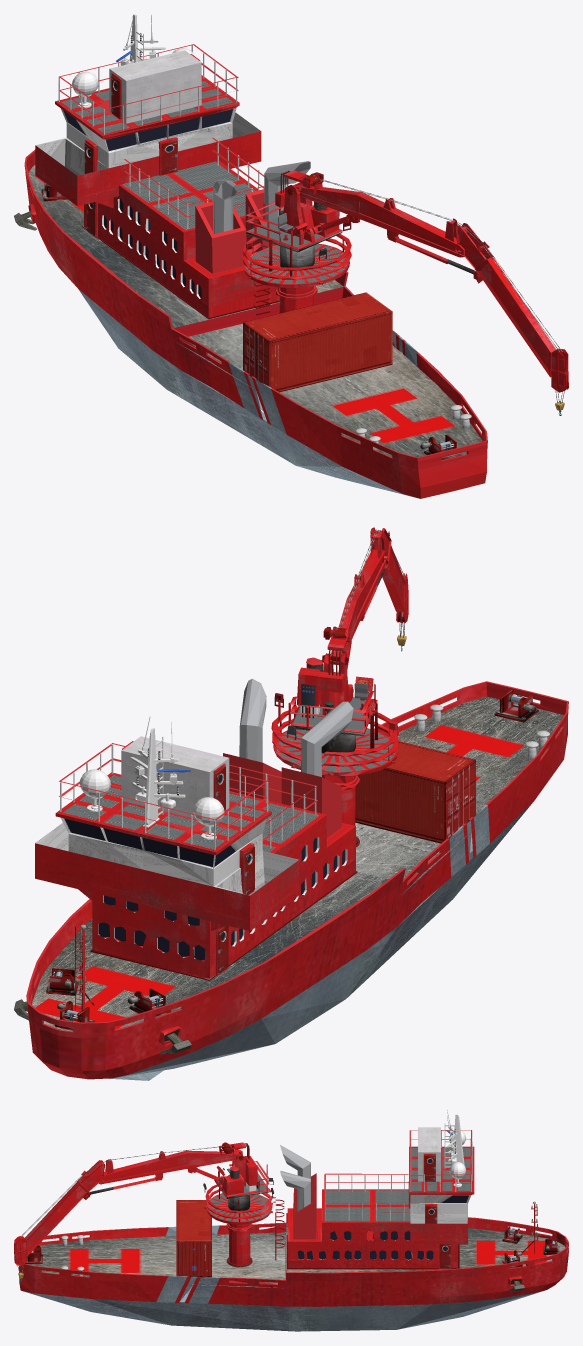
Rendered from icebreaker.glb.
3 views of the same model, one above another, from view 1: azimuth 30°, elevation 25°; view 2: azimuth 150°, elevation 25°; view 3: azimuth 270°, elevation 25° (orthographic). The views are drawn at different scales.
Size of the model in its own units: 31.86 by 45.7 by 110.
50 materials, 46 textured.
